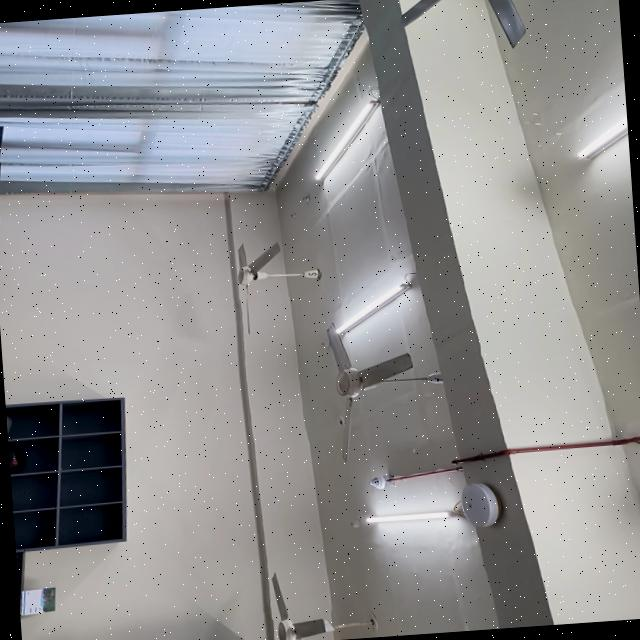Light: (315, 99, 378, 179), (336, 272, 412, 333), (576, 115, 628, 158), (364, 500, 463, 522)
